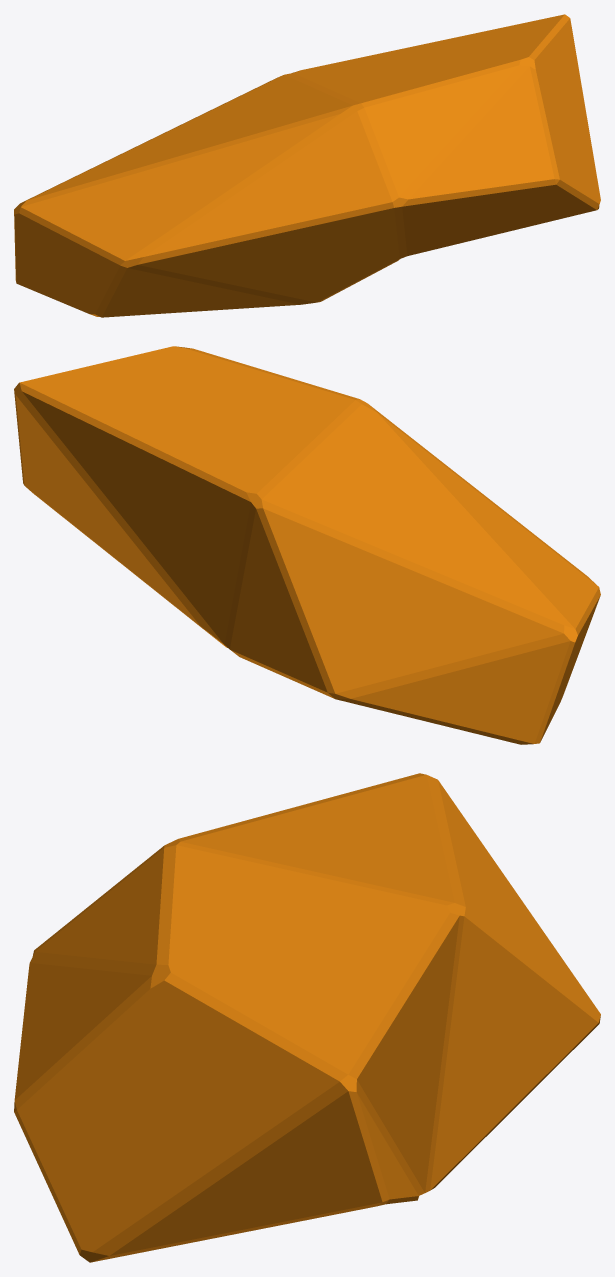
The model's file is Roca1.fbx.
3 views of the same model, one above another, from view 1: azimuth 30°, elevation 25°; view 2: azimuth 150°, elevation 25°; view 3: azimuth 270°, elevation 25° (orthographic). The views are drawn at different scales.
Visible parts, largest first — view 1: Pedrolo1; view 2: Pedrolo1; view 3: Pedrolo1.
Part boxes in pixels (x1,y1,x2,y2): Pedrolo1: (14, 14, 600, 317); Pedrolo1: (14, 346, 600, 744); Pedrolo1: (14, 773, 600, 1262).
Bounding box in the file's own units: 1493 × 528 × 830.
